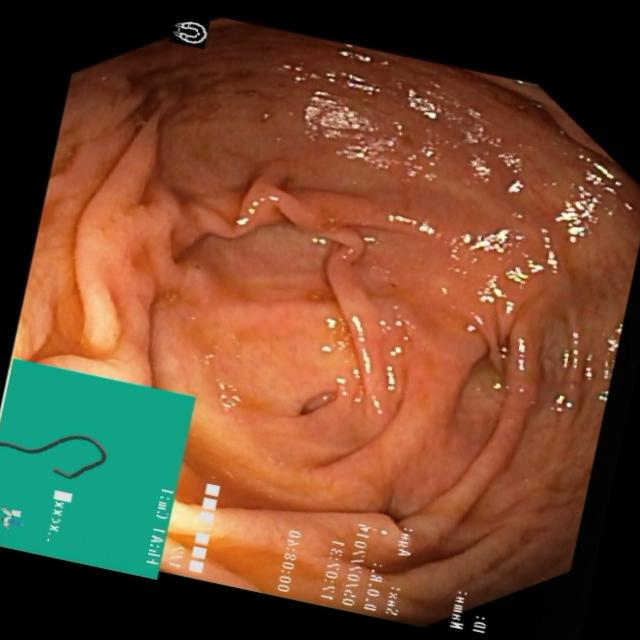normal-cecum: (159, 420, 363, 614), (106, 53, 239, 142), (6, 286, 135, 370)
